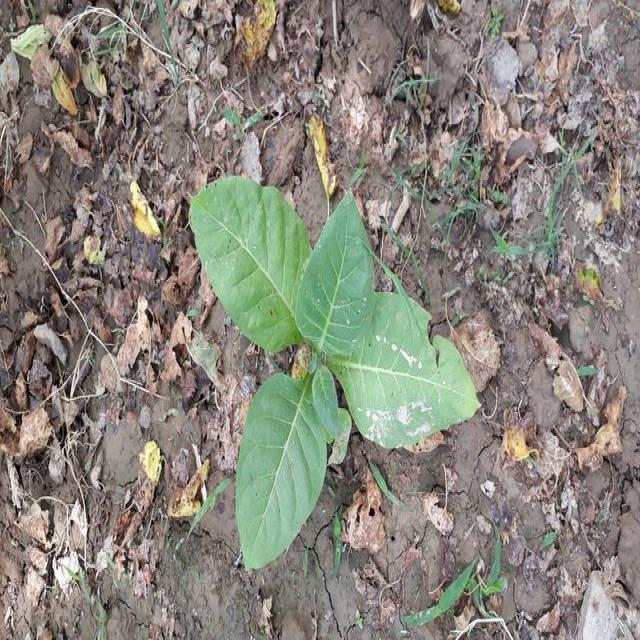crop: (192, 173, 480, 562)
